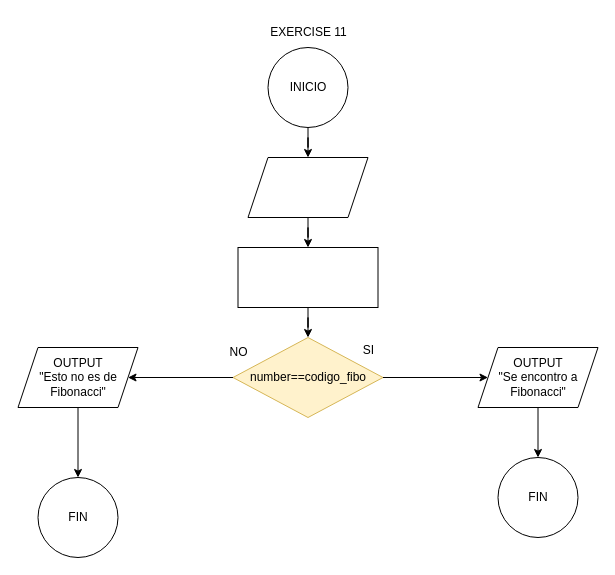
Image size: 615x575. Some labels were removed from this diagram. The centre of each missing label's shape, as x and y in pixels:
"codigo_fibo=11235813" goes at [307,277].
"INPUT number" goes at [307,187].
